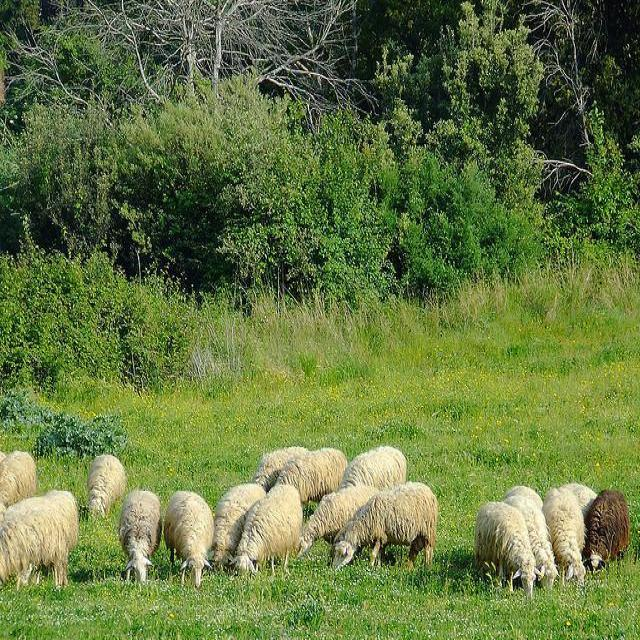Sheep: (274, 451, 387, 558), (333, 486, 437, 575), (0, 490, 79, 595), (471, 497, 536, 609), (229, 484, 303, 576), (501, 481, 559, 594), (544, 485, 598, 586), (163, 491, 216, 590), (586, 486, 639, 572), (214, 485, 268, 567), (117, 494, 164, 584), (340, 443, 410, 490), (1, 450, 38, 524), (87, 456, 126, 517), (258, 447, 308, 490)
